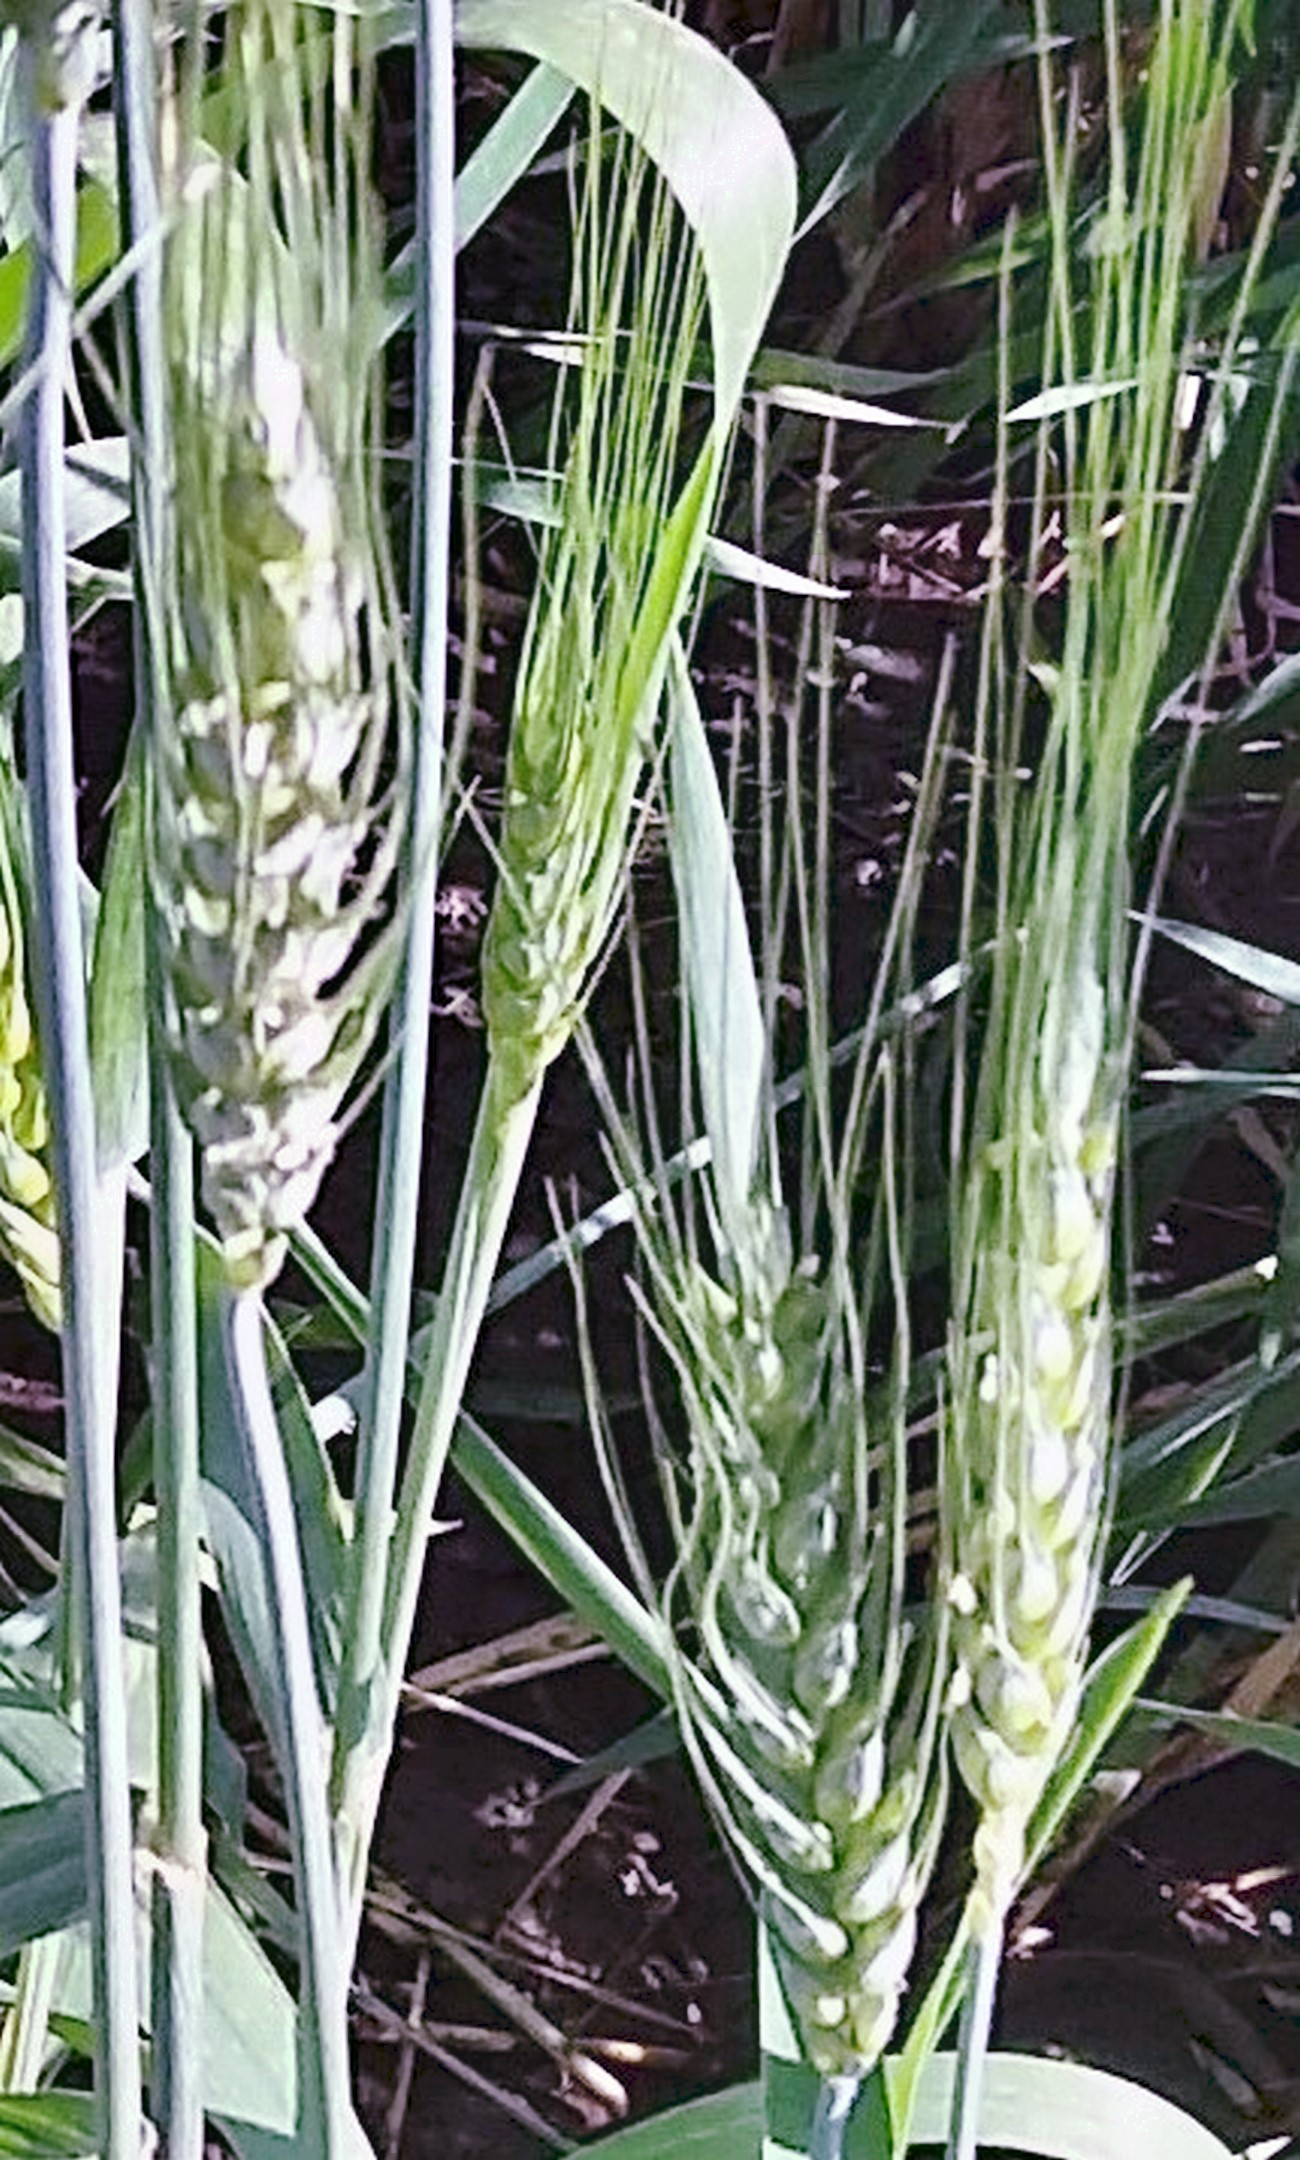Healthy Wheat: (640, 1251, 944, 2029)
